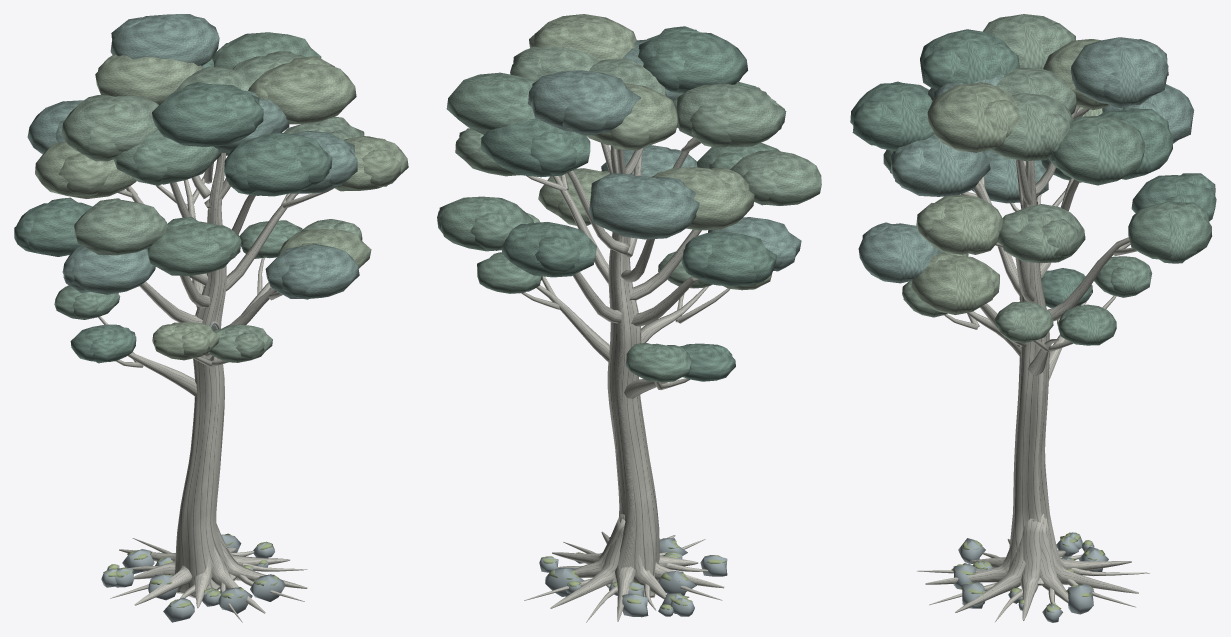
File: reference-tree-v1.glb
3 views of the same model, side by side, from view 1: azimuth 30°, elevation 25°; view 2: azimuth 150°, elevation 25°; view 3: azimuth 270°, elevation 25° (orthographic). The views are drawn at different scales.
Visible parts, largest first — view 1: canopy, bark, stones, moss; view 2: canopy, bark, stones, moss; view 3: canopy, bark, stones, moss.
Boxes of the visible parts, x1,y1,x2,y2 form: canopy: (14, 14, 408, 363); bark: (98, 153, 333, 622); stones: (101, 534, 285, 622); moss: (103, 533, 278, 607); canopy: (437, 14, 821, 382); bark: (521, 137, 729, 622); stones: (539, 537, 727, 617); moss: (541, 538, 726, 610); canopy: (850, 14, 1216, 345); bark: (917, 106, 1149, 622); stones: (953, 532, 1108, 622); moss: (951, 532, 1105, 612).
Bounding box in the file's own units: 12.67 × 19.81 × 12.03.
Materials: 5 (2 with a texture image).
